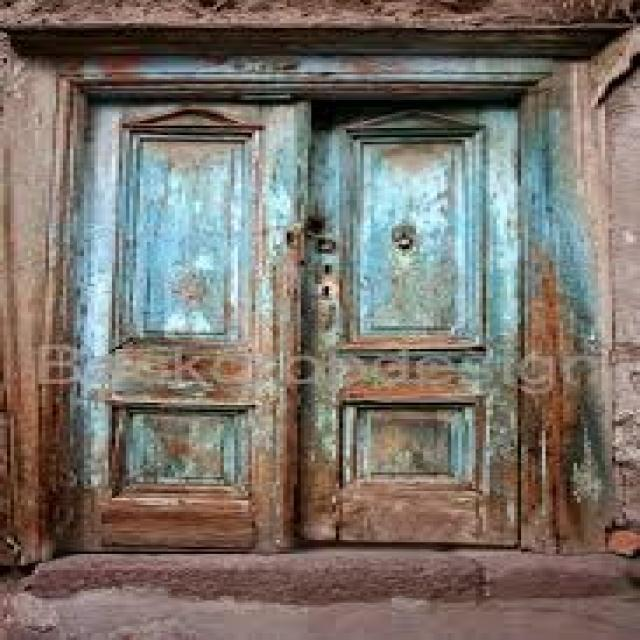Door: (65, 78, 533, 551)
